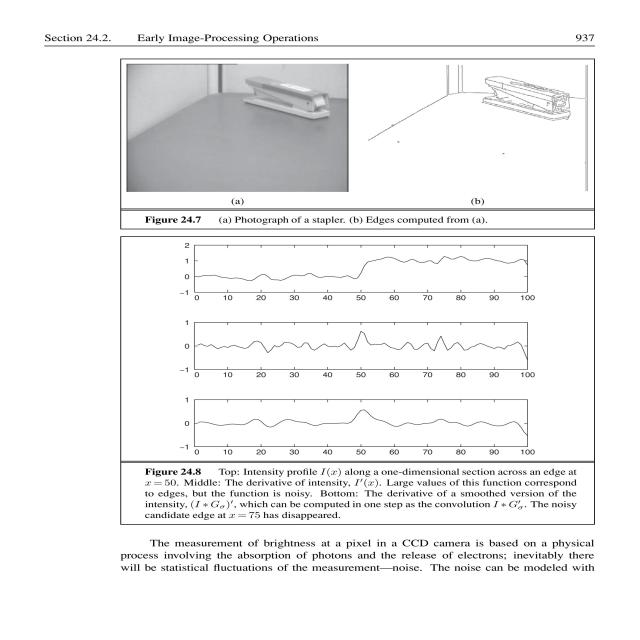diagram: (118, 234, 595, 524), (119, 58, 603, 234)
